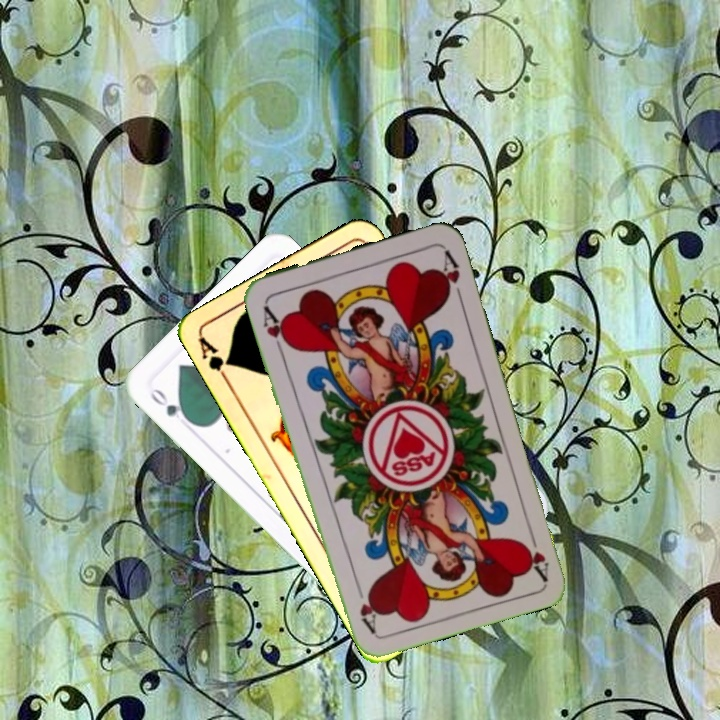GA: (195, 333, 234, 388)
GO: (145, 383, 195, 426)
HA: (258, 300, 294, 357), (518, 523, 552, 582)
